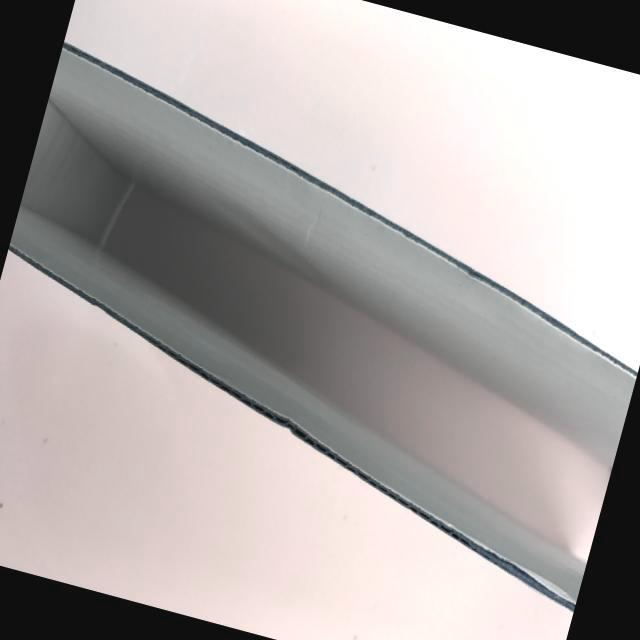cardboard: (0, 37, 640, 612)
